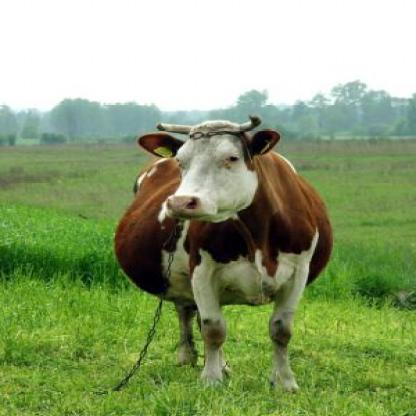lower: (194, 217, 202, 221)
mouth: (162, 192, 236, 224)
upper: (173, 203, 184, 208)
